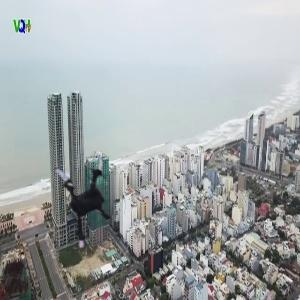drone: (29, 147, 132, 250)
